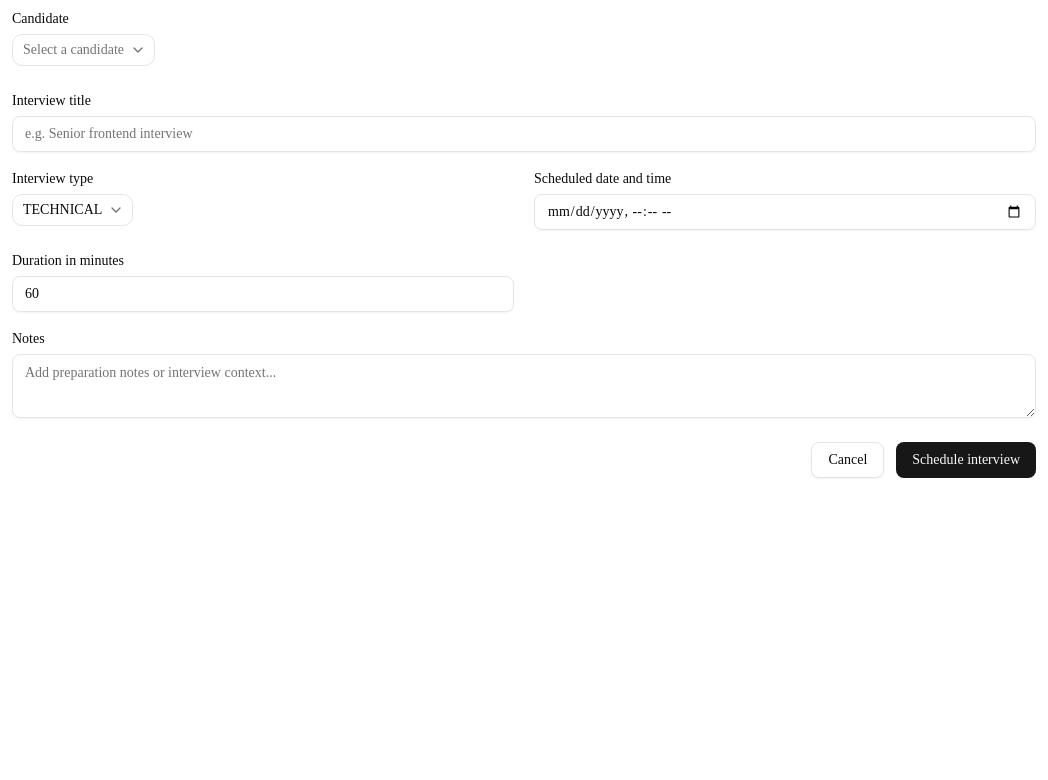
Test: InterviewForm › displays server and field errors
Click the dropdown labelled "candidate". click: [84, 50]
box: [12,34,155,66]
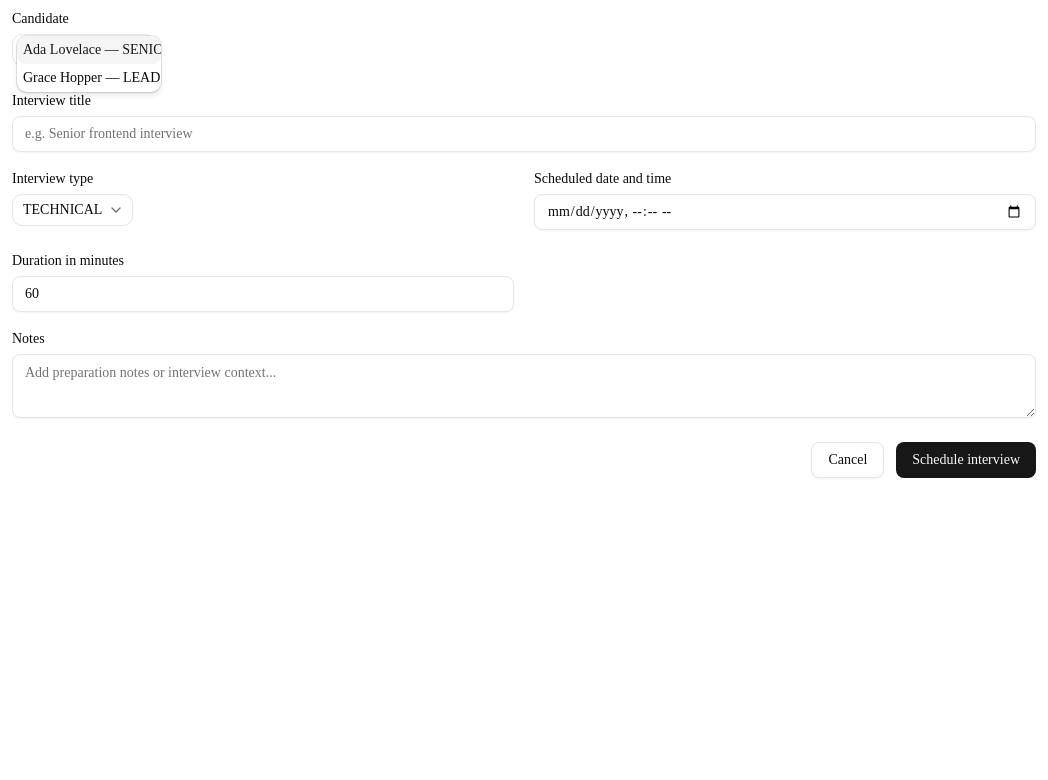
Click the option "Ada Lovelace — SENIOR". click: [89, 50]
box: [17,36,161,64]
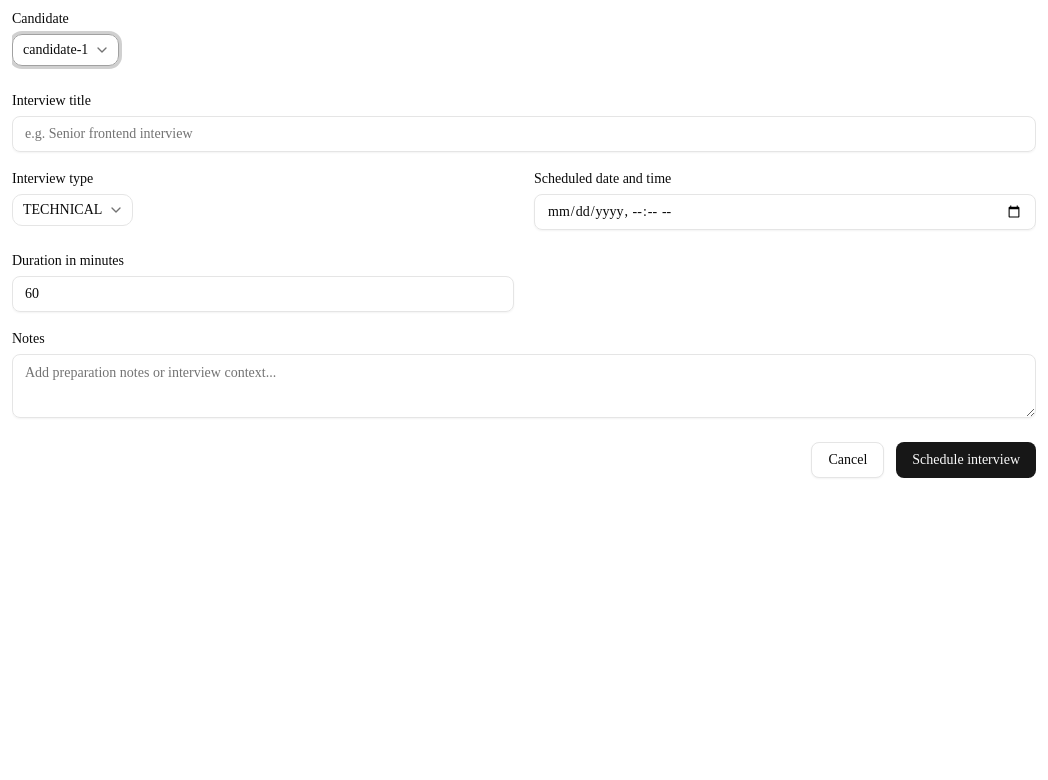
Type "Senior frontend interview" into the field labelled "Interview title". click: [524, 134]
box: [12,116,1036,152]
Type "2026-07-30T14:30" into the field labelled "Scheduled date and time". click: [785, 212]
box: [534,194,1036,230]
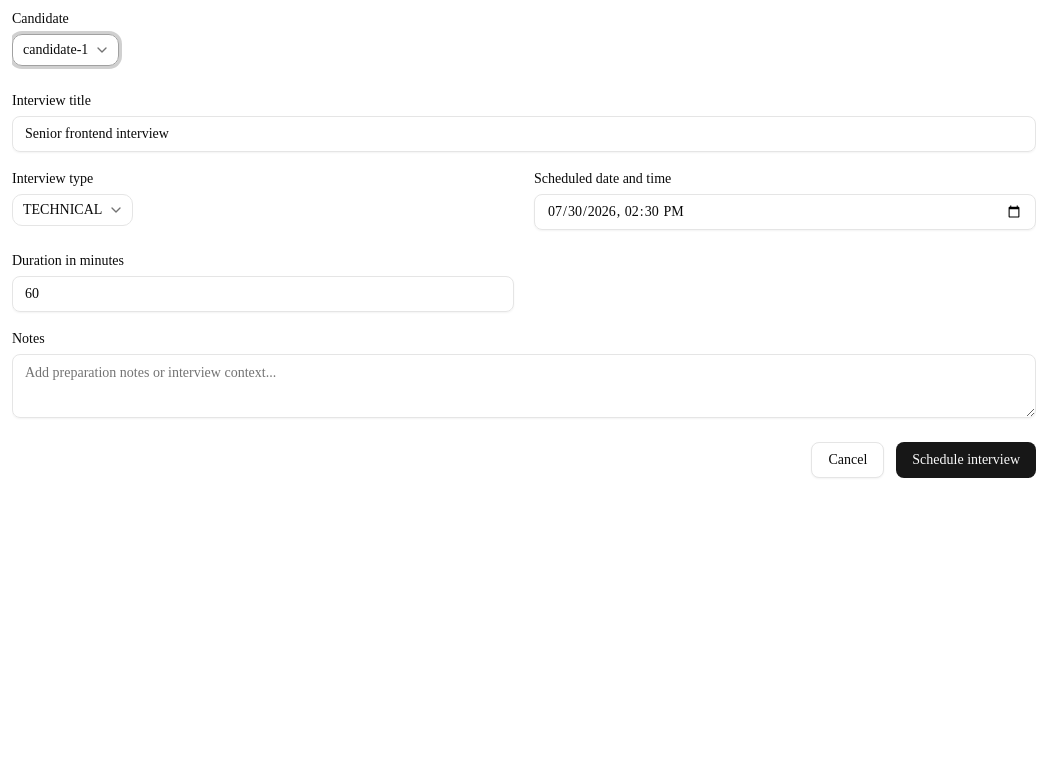
Replace the text in the number field labelled "Duration in minutes" with "90". click: [263, 294]
box: [12,276,514,312]
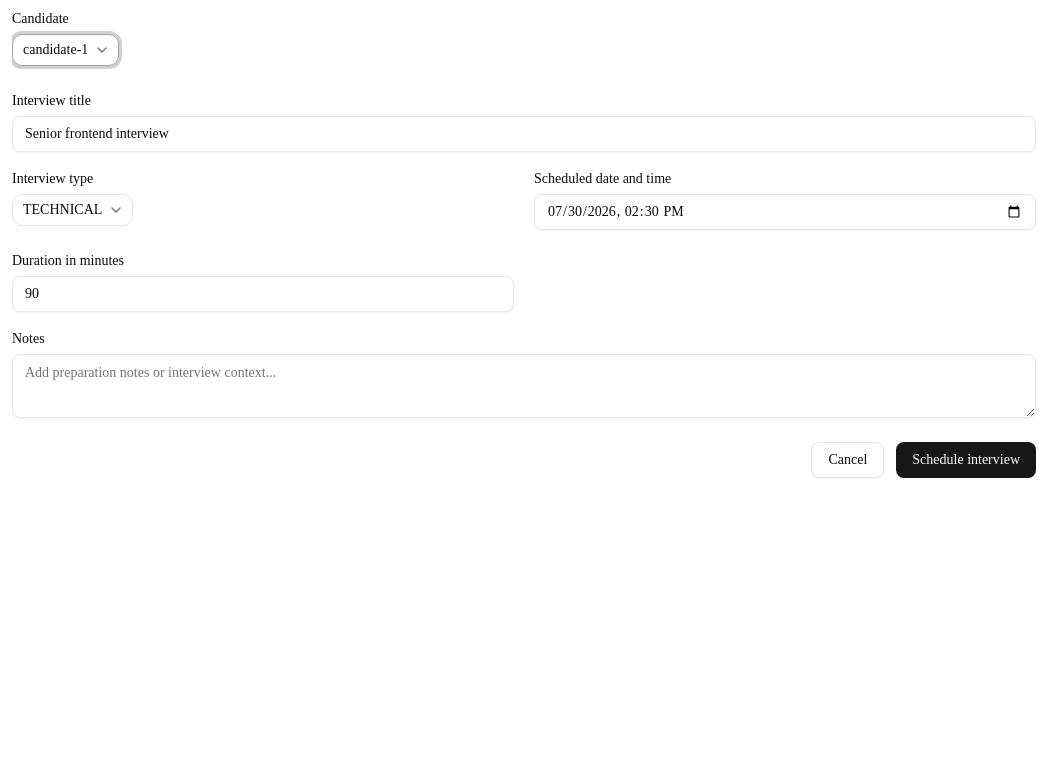
Type "Focus on architecture." into the text box labelled "Notes". click: [524, 386]
box: [12,354,1036,418]
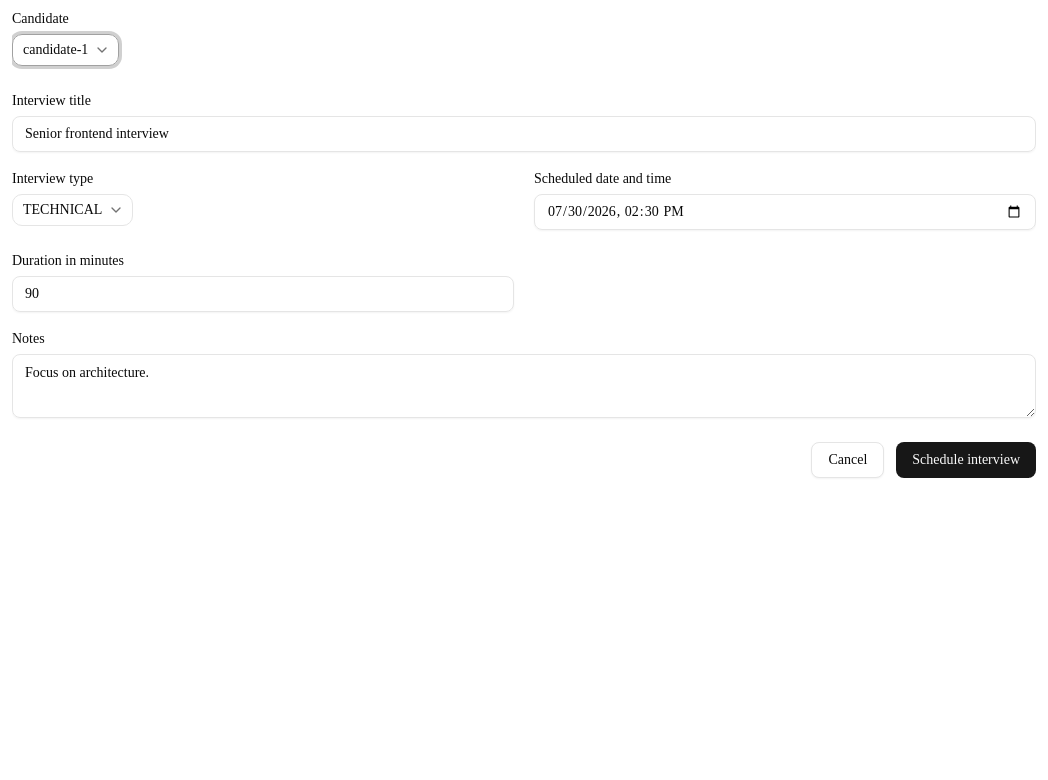
Click the button "Schedule interview". click: [966, 460]
box: [896,442,1036,478]
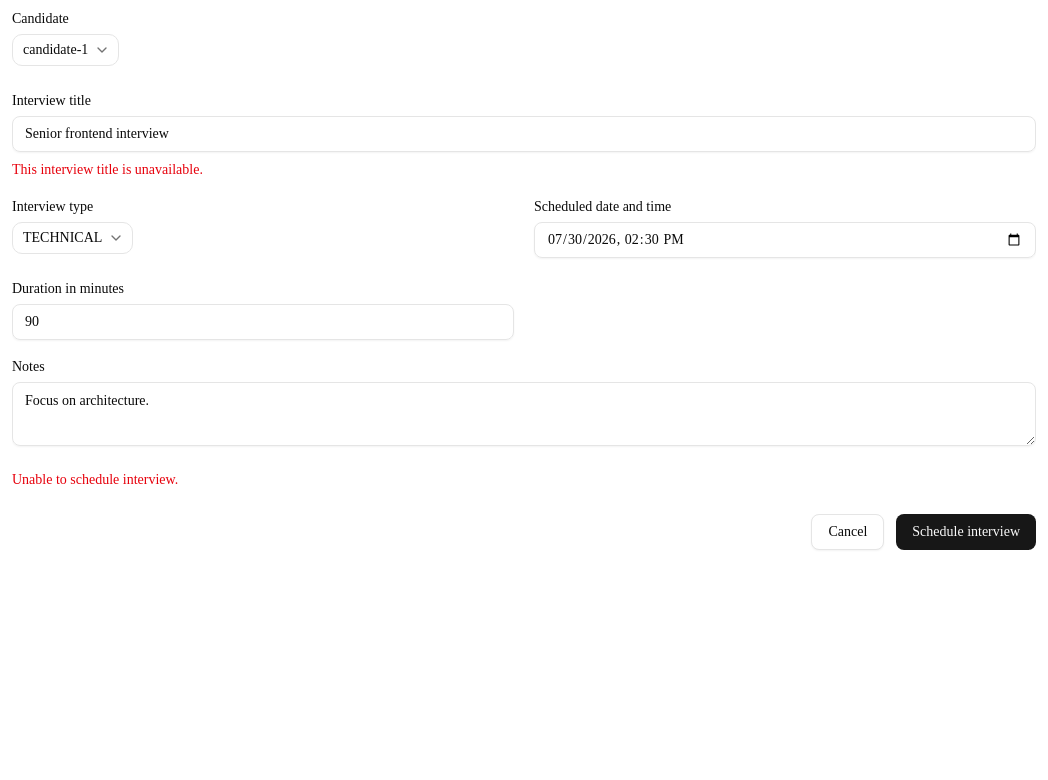
Expected: the text "Unable to schedule interview." is shown, [12,472,178,487]
Expected: the text "This interview title is unavailable." is shown, [12,162,203,177]
